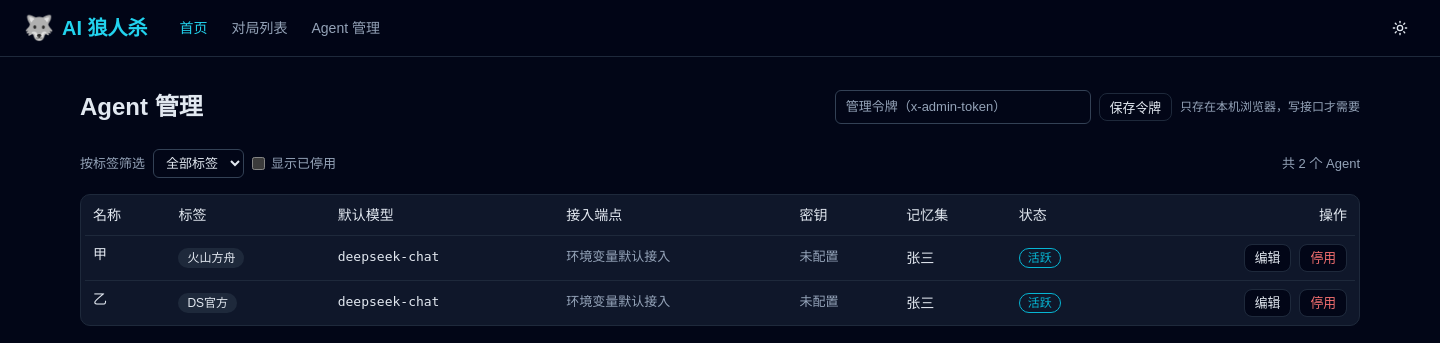
Scenario: 按标签筛选只保留该标签的 Agent
Check: the text "甲" is shown, box [93,246,107,262]
Select "DS官方" in the dropdown labelled "按标签筛选" at (198, 164), box [153,149,244,178]
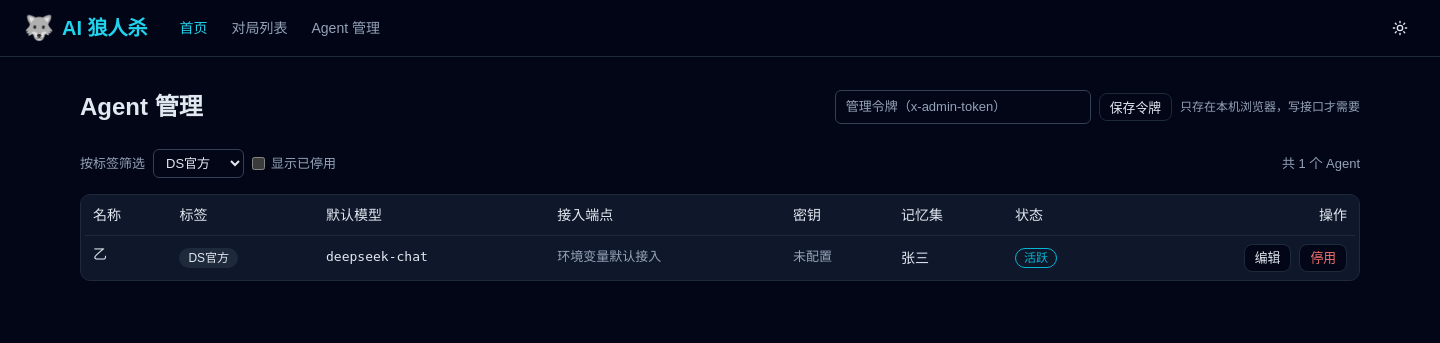
Check: the text "乙" is shown, box [93,246,107,262]
Check: the text "甲" is gone
Check: the text "共 1 个 Agent" is shown, box [1282,154,1360,173]
